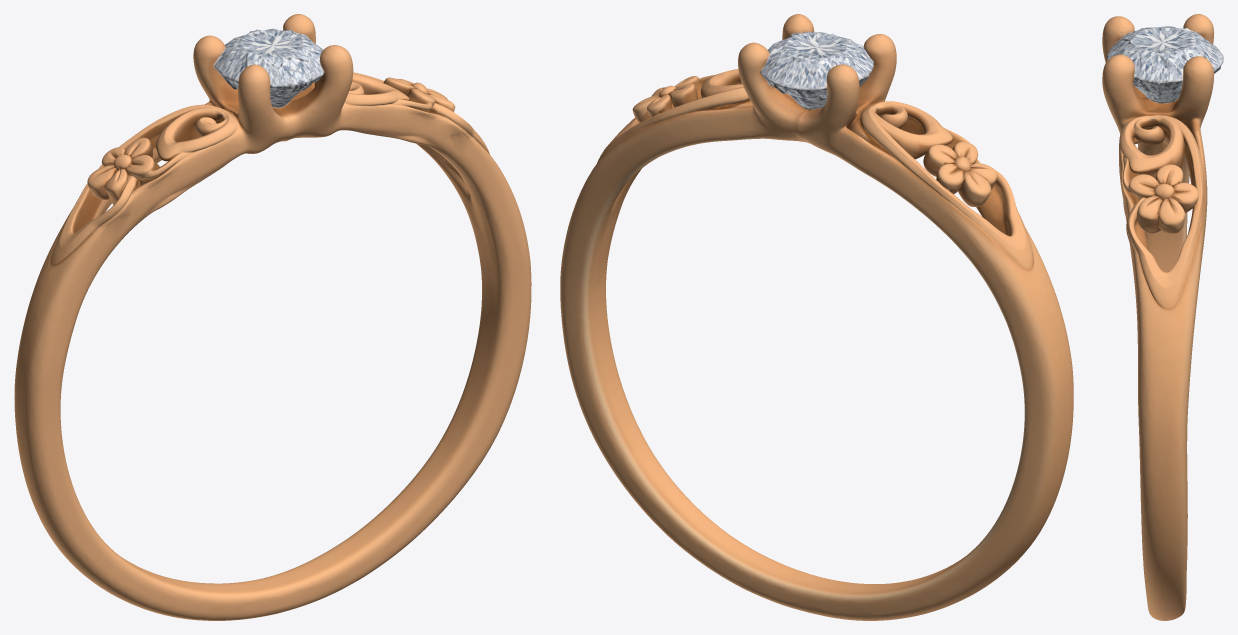
File: solitaire4_warp.glb
3 renders of one model, left to right at view 1: azimuth 30°, elevation 25°; view 2: azimuth 150°, elevation 25°; view 3: azimuth 270°, elevation 25°, orthographic. The views are drawn at different scales.
Size of the model in its own units: 1.75 by 1.9 by 0.3755.
Materials: 1 (1 with a texture image).
